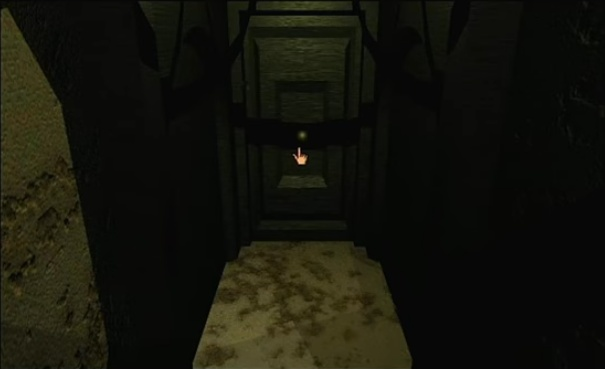Pointer: (290, 144, 313, 167)
